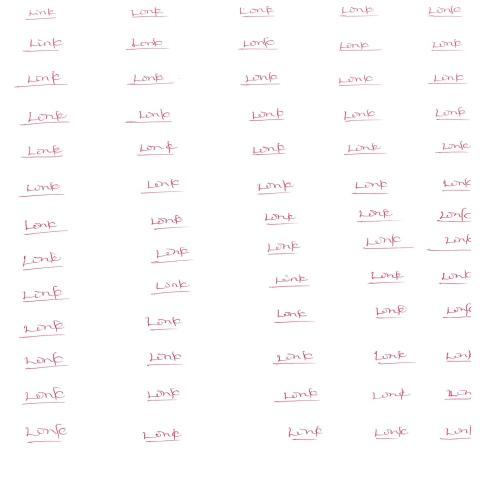Link: (15, 72, 65, 89), (20, 111, 72, 127), (21, 253, 67, 271), (22, 219, 66, 237), (19, 322, 65, 339), (151, 246, 192, 265), (18, 182, 63, 199), (21, 287, 65, 304), (24, 353, 65, 371), (125, 110, 173, 125), (124, 73, 171, 88), (137, 141, 177, 158), (150, 280, 191, 296), (146, 351, 184, 368), (123, 38, 166, 53), (140, 179, 180, 195), (144, 316, 184, 332), (365, 235, 407, 250), (357, 208, 394, 225), (21, 145, 65, 159), (374, 349, 410, 366), (22, 38, 65, 52), (351, 181, 388, 197), (256, 181, 295, 196), (436, 209, 475, 224), (239, 73, 280, 87), (273, 352, 314, 366), (149, 216, 187, 231), (368, 271, 406, 286), (434, 107, 469, 123), (437, 271, 474, 286), (273, 309, 310, 324), (342, 109, 381, 123), (265, 242, 300, 257), (237, 38, 277, 51), (344, 144, 383, 157), (249, 109, 285, 123), (251, 144, 287, 158), (439, 178, 472, 193), (427, 74, 468, 86), (238, 6, 275, 19), (271, 276, 308, 289), (339, 75, 375, 88), (435, 142, 471, 155), (265, 212, 296, 227), (340, 6, 378, 18), (428, 6, 463, 19), (430, 40, 463, 53), (24, 9, 58, 21), (130, 8, 164, 20), (376, 306, 405, 319), (339, 42, 376, 52)
